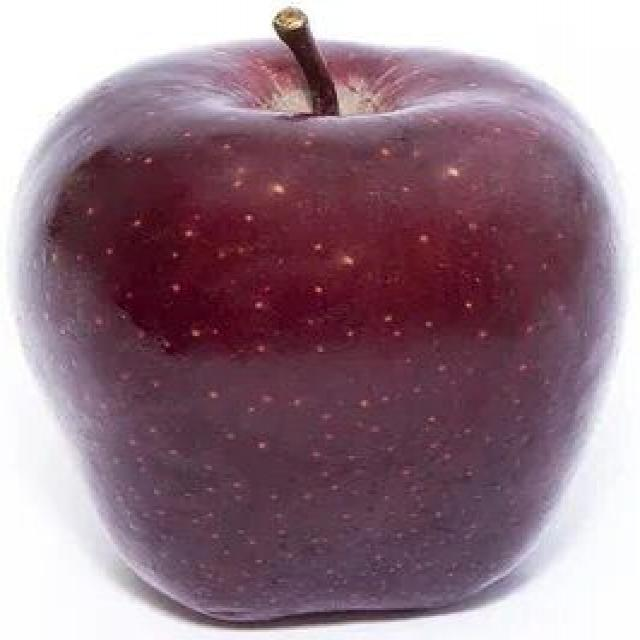Fresh Apple: (56, 40, 592, 632)
